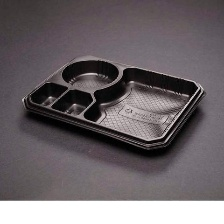plastic_box: (15, 48, 212, 162)
